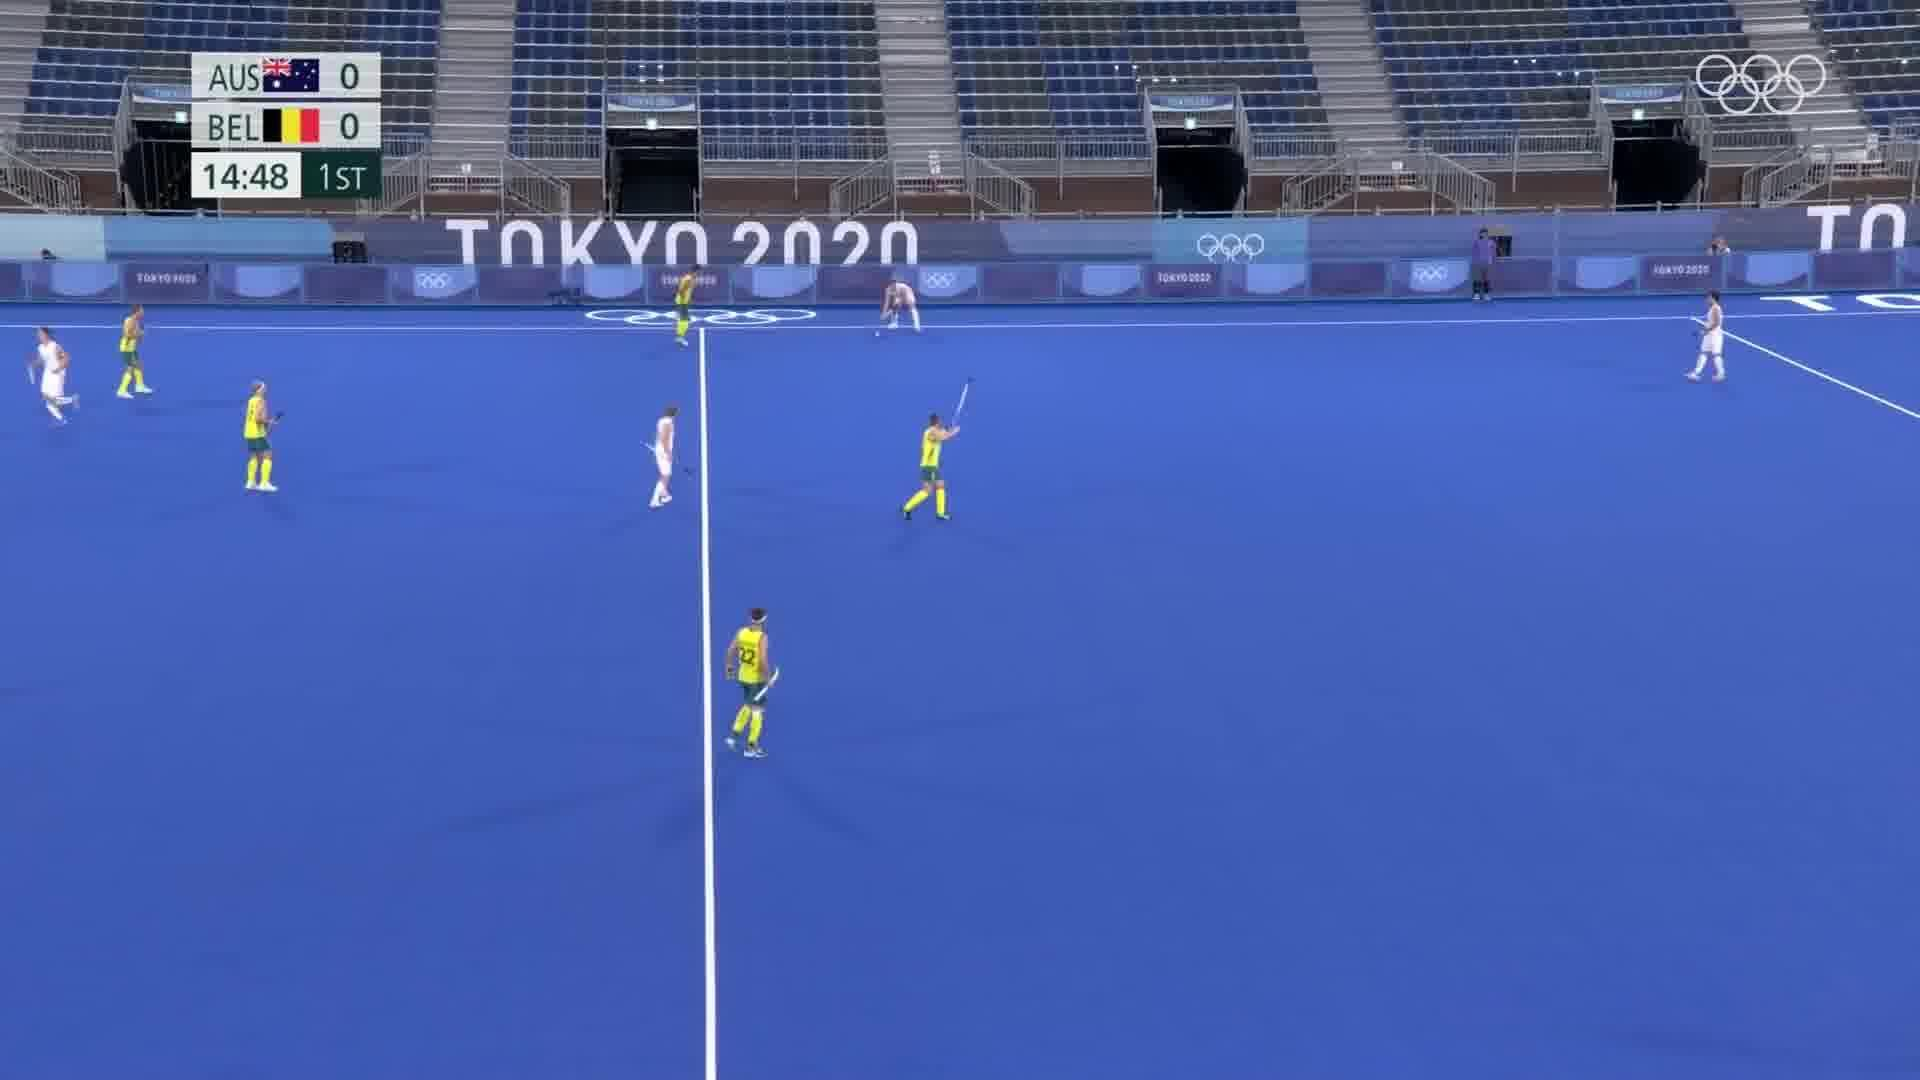ball: (866, 326, 884, 338)
